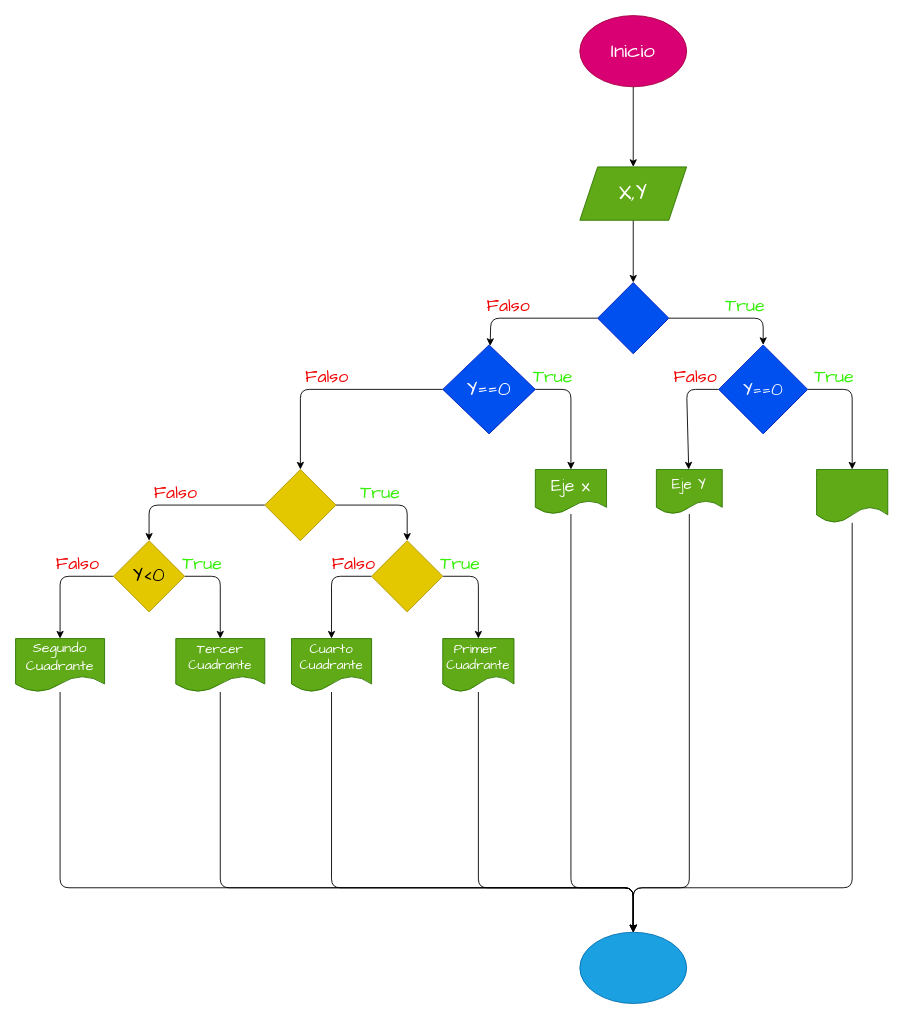
This 903x1019 diagram has some shape labels left out. Each missing label, with the centre of its shape:
Fin: the point at 633,967
Origen: the point at 852,496
X==0: the point at 633,318
X>0: the point at 300,505
Y>0: the point at 407,576
